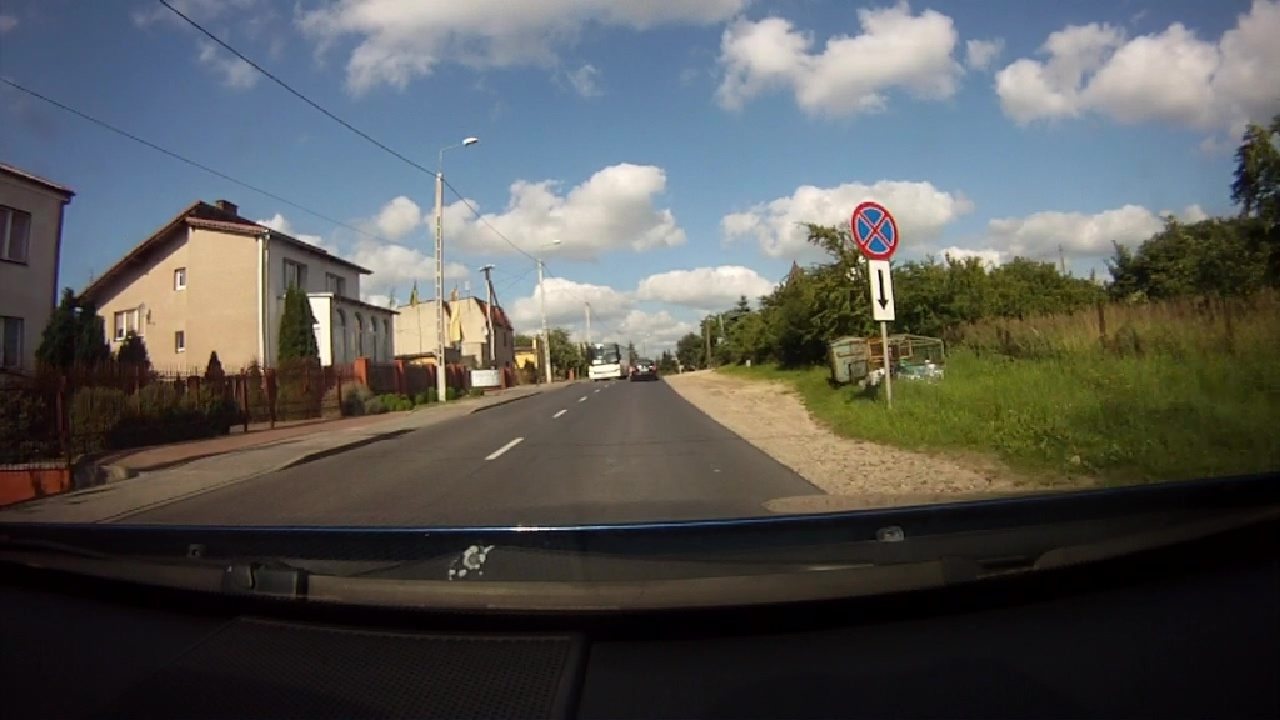B36: (850, 201, 899, 259)
